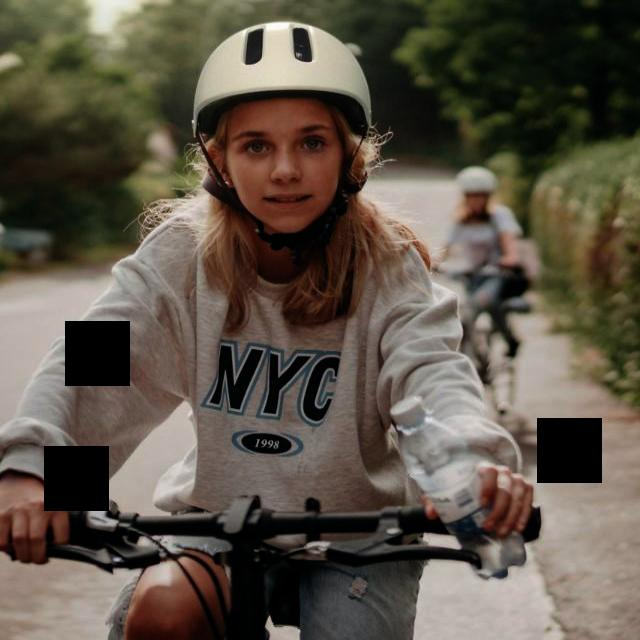Helmet: (192, 21, 374, 232)
